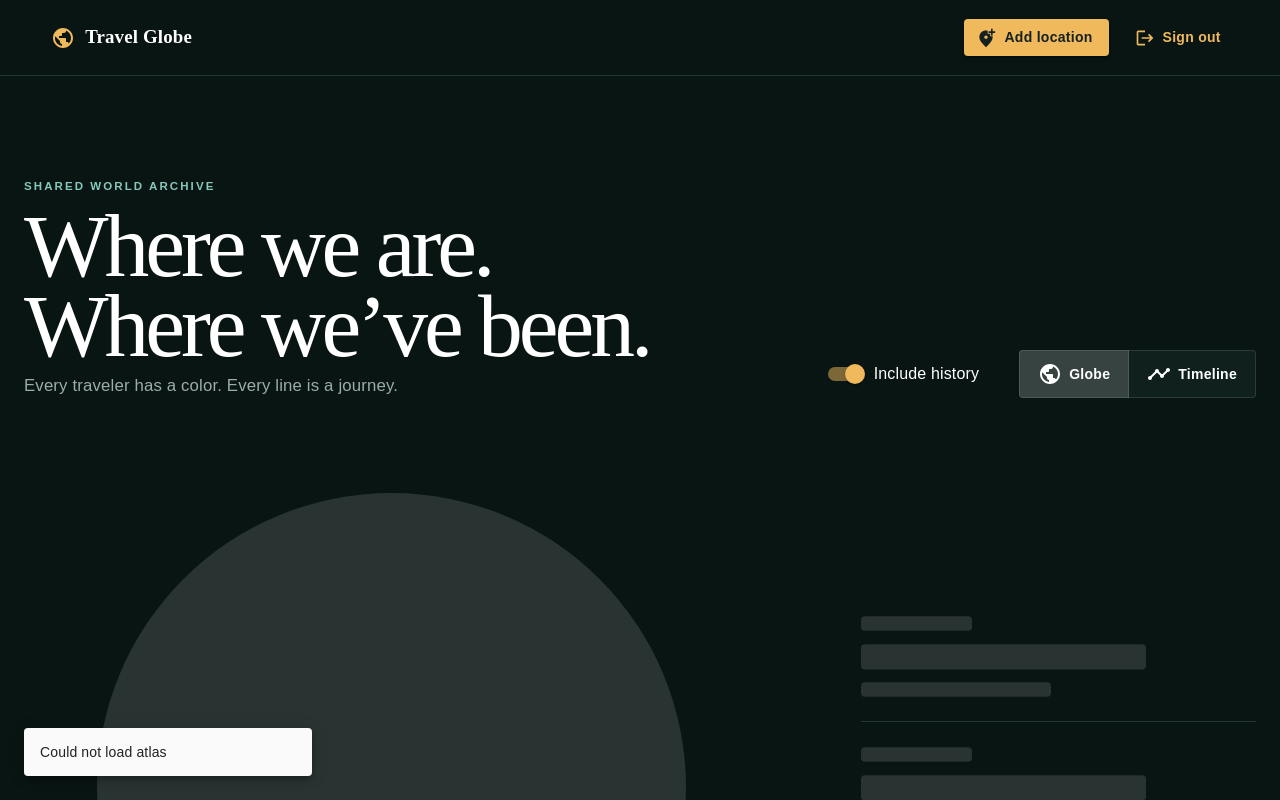
changing atlas scope clears the old error and cancels its request
Expected: the text "Could not load atlas" is shown, [40,744,167,760]
What coordinates should you click on to do the following:
click the switch labelled "Include history"
I would click on:
 (903, 374)
Its box is [828,364,979,384].
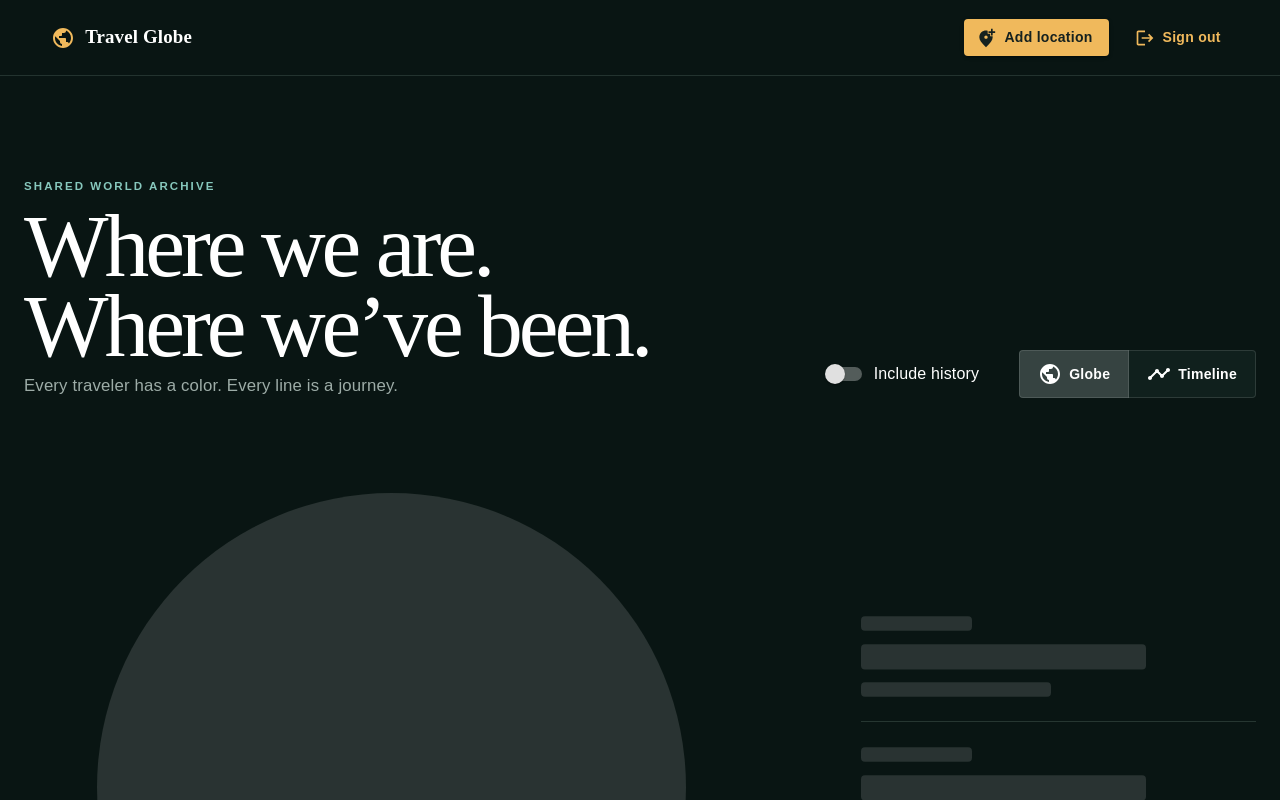
Result: the text "Could not load atlas" is gone
